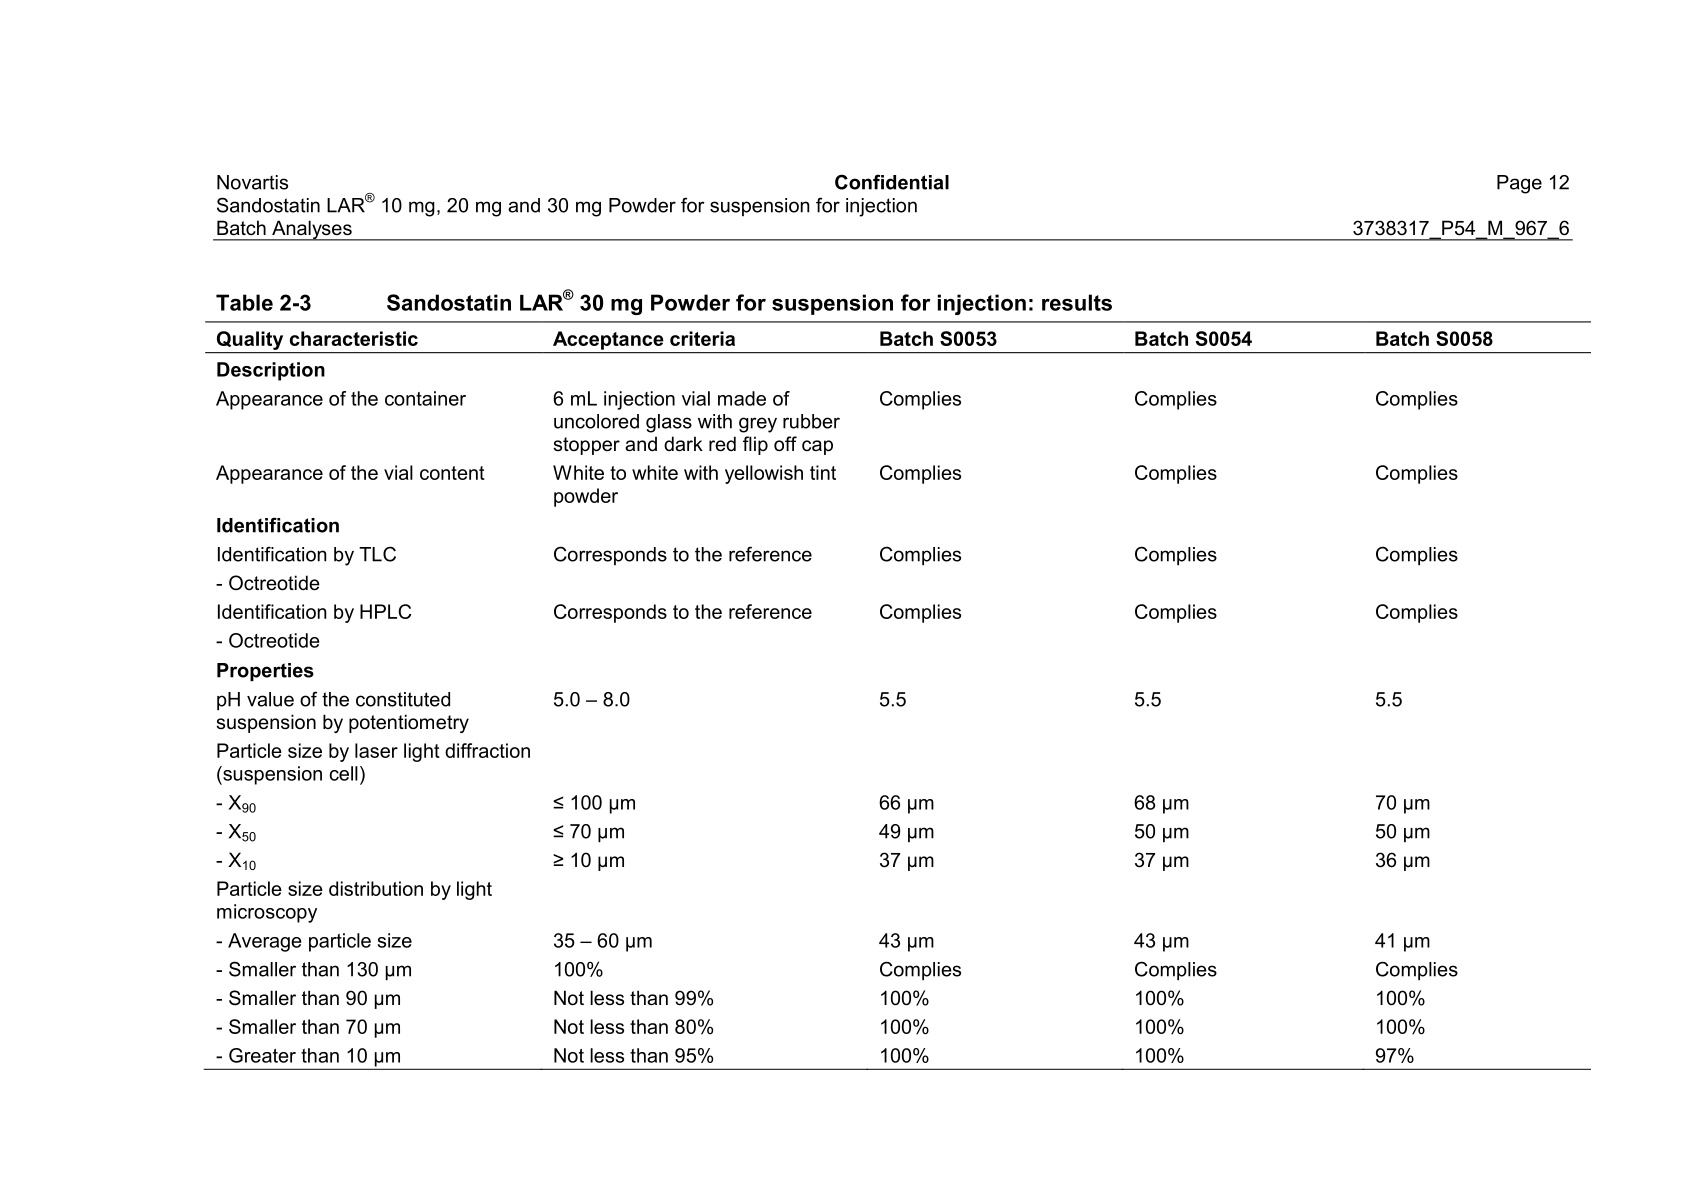partial_lined: (204, 320, 1590, 1071)
